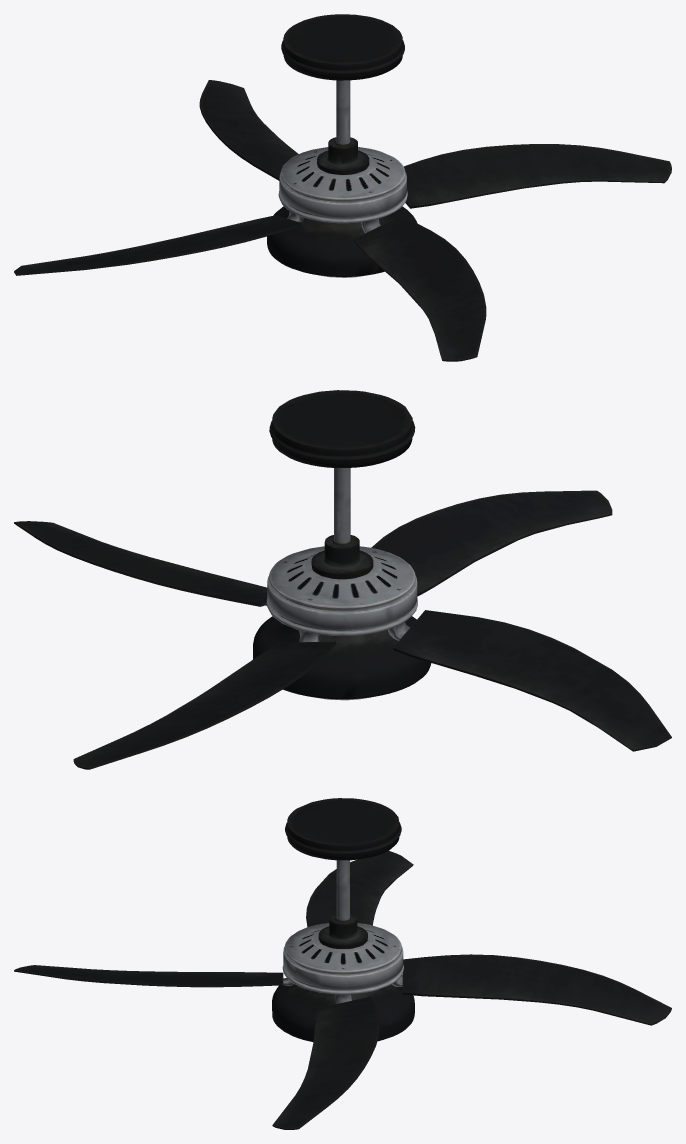
The model's file is ceiling_fan.glb.
The picture shows the model from 3 angles, top to bottom: view 1: azimuth 30°, elevation 25°; view 2: azimuth 150°, elevation 25°; view 3: azimuth 270°, elevation 25°; orthographic projection. The views are drawn at different scales.
Parts seen in each view (by area): view 1: ceiling_fan; view 2: ceiling_fan; view 3: ceiling_fan.
Boxes of the visible parts, x1=… form: ceiling_fan: x1=14, y1=14, x2=671, y2=361; ceiling_fan: x1=14, y1=390, x2=671, y2=769; ceiling_fan: x1=14, y1=798, x2=671, y2=1129.
Size of the model in its own units: 1.46 by 0.5163 by 1.46.
1 material, 1 textured.
